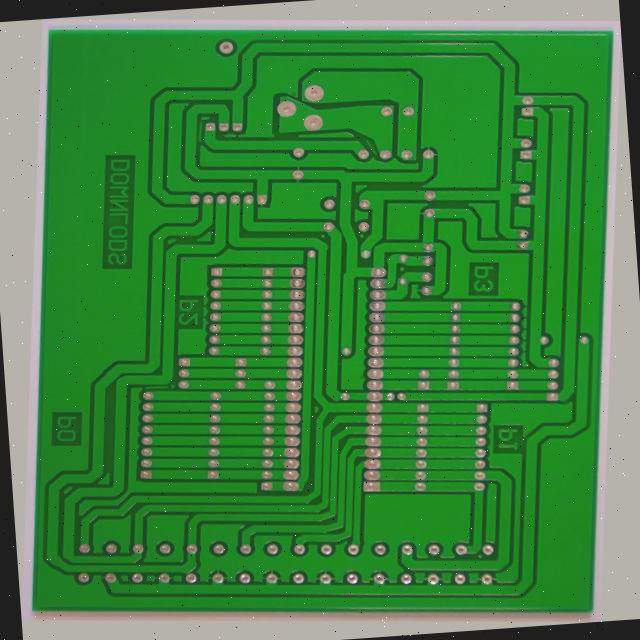spurious_copper: (347, 122, 366, 143), (132, 398, 163, 410), (160, 116, 172, 144)
